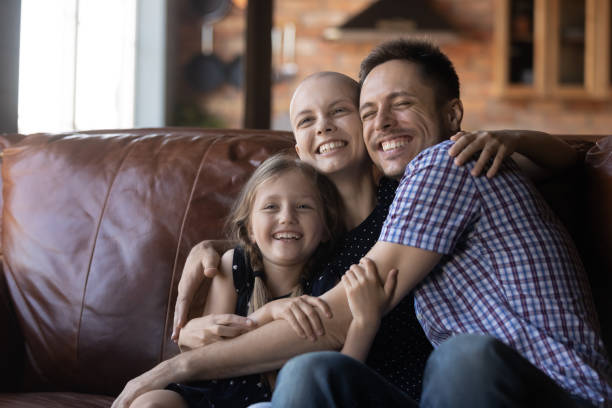without mask: (363, 65, 445, 170), (246, 173, 321, 268), (287, 82, 360, 174)
